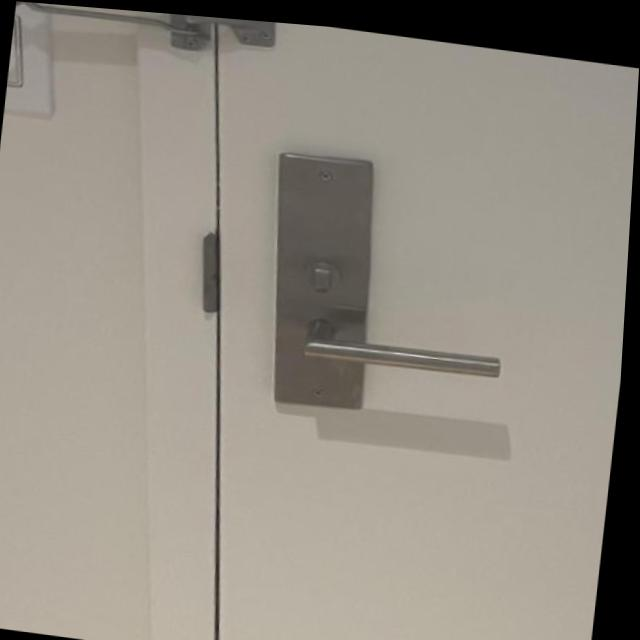door_handle: (282, 297, 526, 399)
